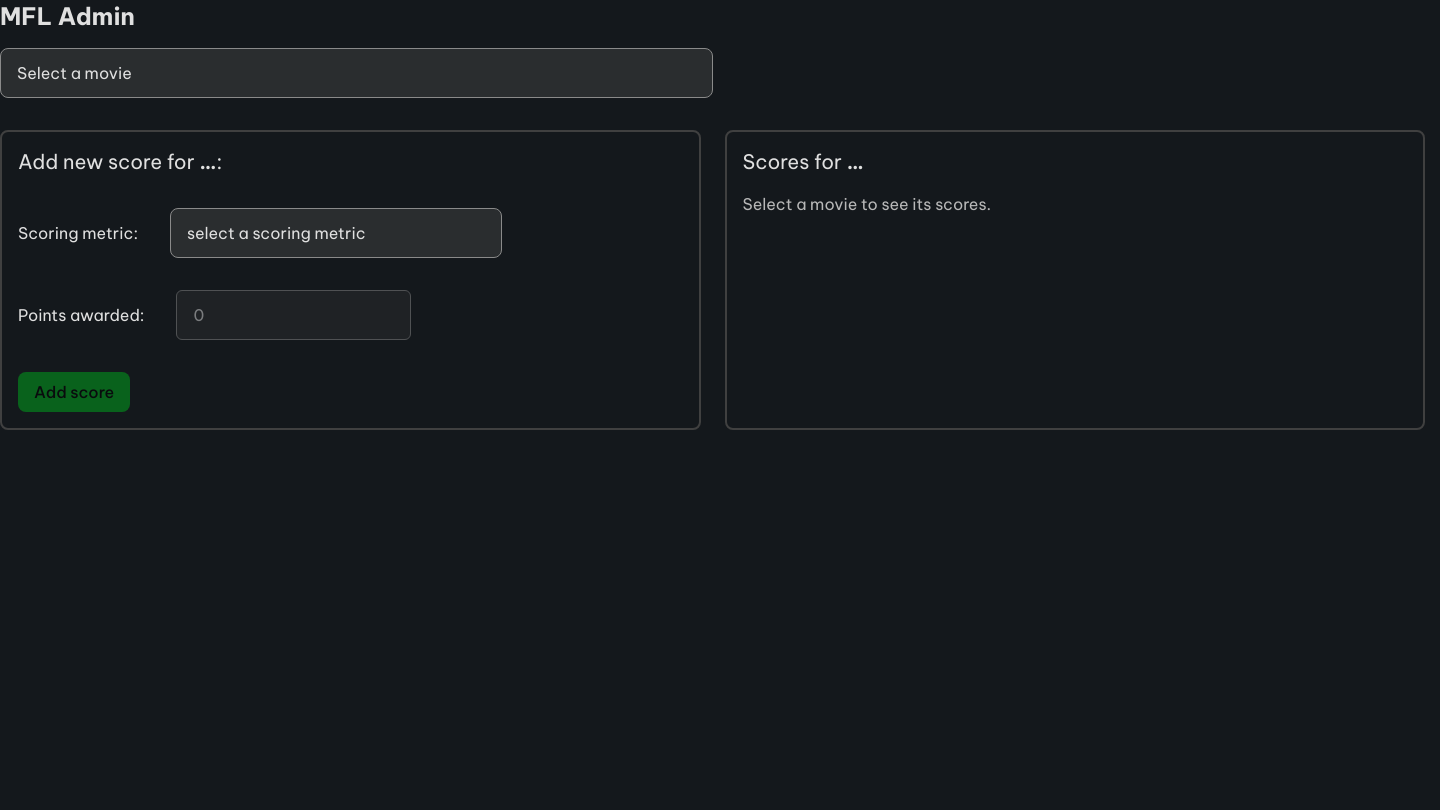
Scenario: MFL admin surfaces write failures › hides the Postgres text behind a generic message on a 500
Select "Anora" in the dropdown named "select a movie" at (356,73), box [0,48,712,98]
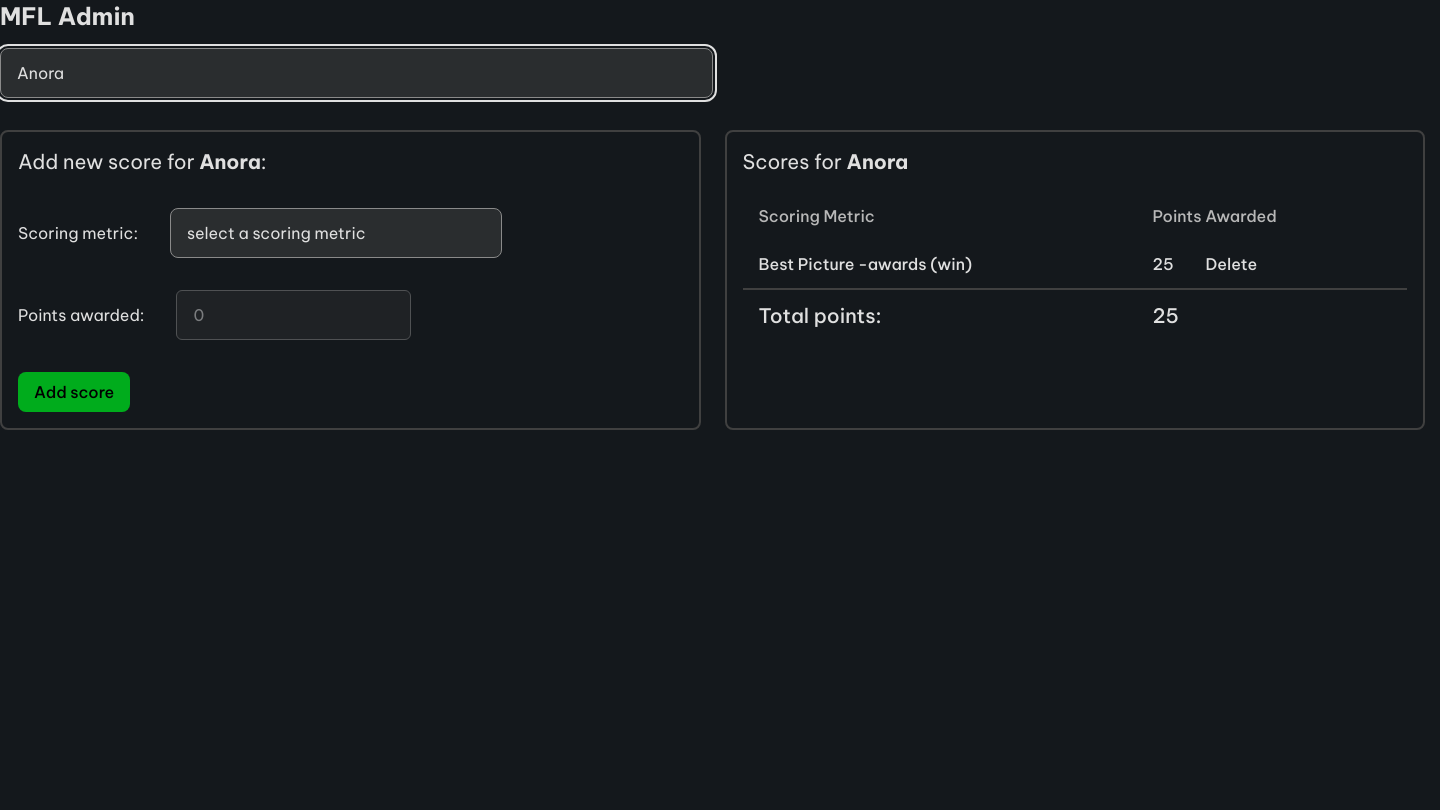
Now the button "Delete" is shown
Click the button "Delete".
click(1231, 264)  # box [1174,252,1289,276]
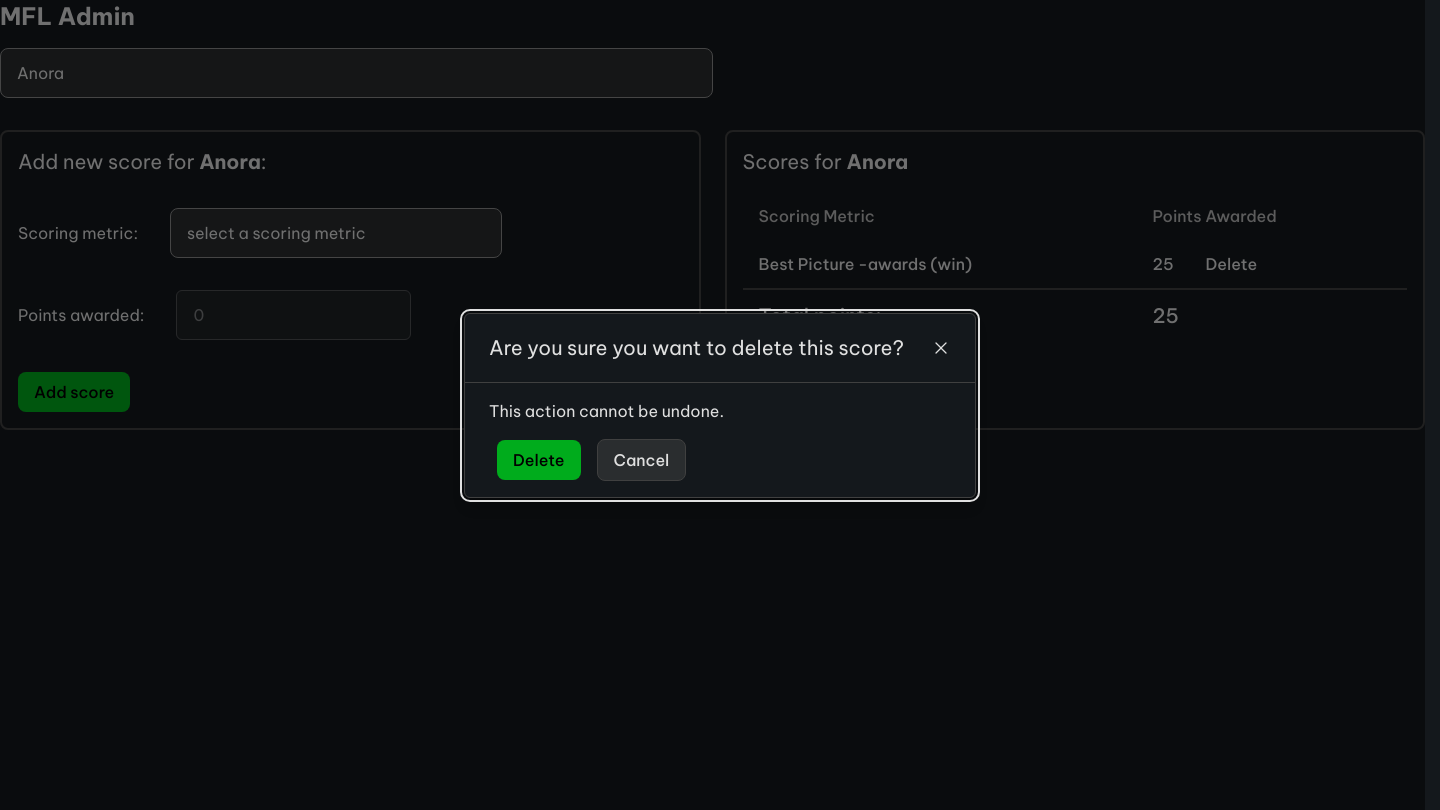
Click the button "Delete".
click(539, 460)  # box [497,440,580,480]
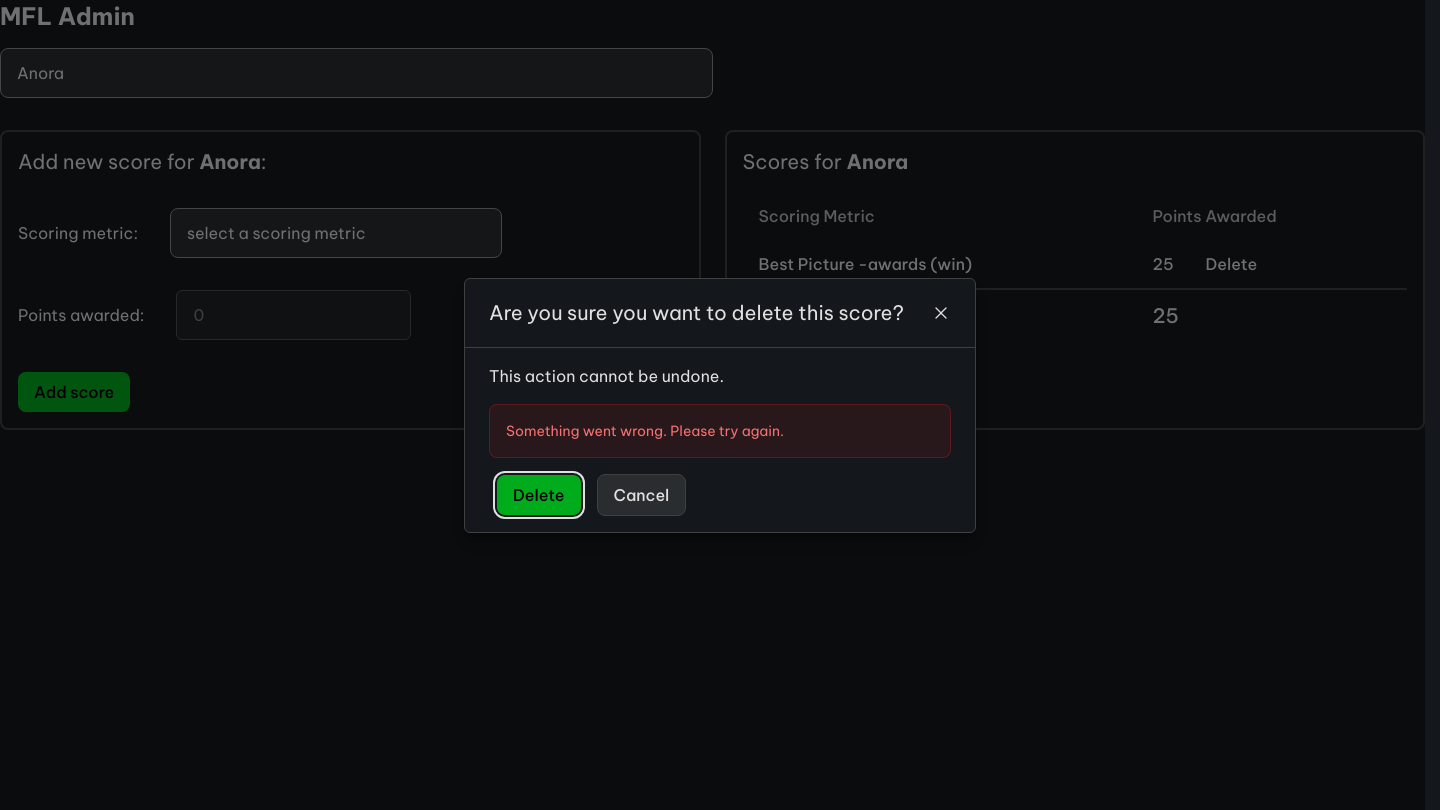
Now the text "Something went wrong. Please try again." is shown, box [489,404,951,458]
